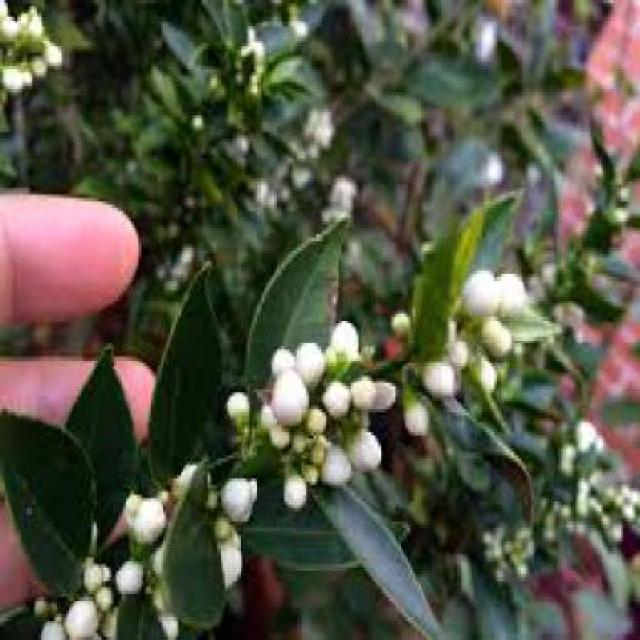BIODEGRADABLE: (124, 494, 168, 544), (269, 372, 309, 426), (218, 472, 255, 520), (328, 316, 359, 370), (343, 426, 379, 466), (64, 597, 98, 637), (467, 267, 490, 321), (494, 271, 521, 317), (313, 444, 349, 478), (326, 172, 351, 218), (318, 379, 349, 416), (368, 370, 398, 408), (477, 314, 505, 352), (215, 534, 238, 578), (110, 560, 142, 591), (403, 393, 428, 432), (422, 356, 450, 390), (153, 600, 178, 637), (553, 442, 576, 478), (168, 462, 198, 488), (442, 327, 464, 362), (222, 386, 245, 419), (270, 342, 292, 376), (294, 340, 317, 372), (277, 472, 301, 502), (346, 382, 368, 413), (573, 418, 593, 452), (267, 420, 291, 446), (620, 482, 638, 516), (304, 432, 327, 458), (479, 531, 504, 554), (210, 512, 230, 538), (39, 36, 59, 62), (508, 520, 524, 552), (479, 359, 495, 390), (37, 617, 61, 637), (575, 488, 591, 518), (304, 406, 324, 429), (257, 402, 274, 426), (0, 62, 17, 86), (442, 309, 455, 340), (284, 426, 304, 446), (24, 52, 44, 72), (15, 56, 30, 82), (318, 340, 334, 363), (595, 508, 611, 530), (27, 9, 38, 40), (79, 564, 99, 581), (393, 307, 405, 333), (302, 464, 318, 482), (495, 560, 519, 572), (30, 587, 42, 610), (0, 13, 12, 36), (92, 590, 108, 607), (17, 13, 28, 36), (99, 560, 113, 578), (610, 524, 618, 548)
